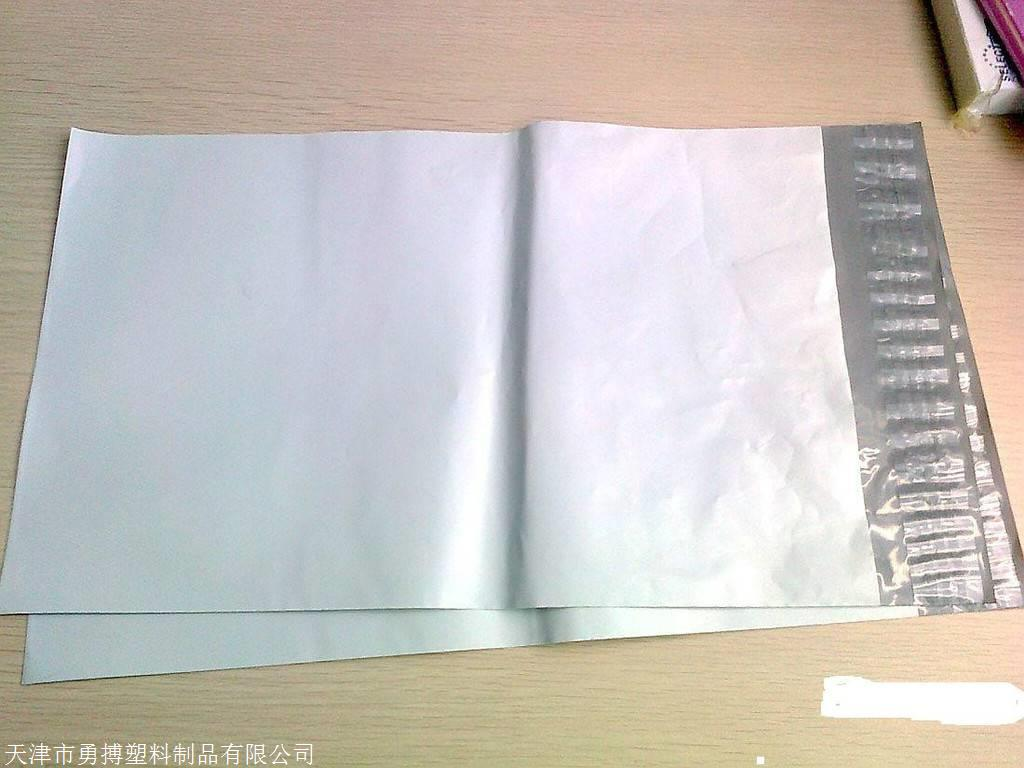塑料袋: (0, 123, 1024, 683)
